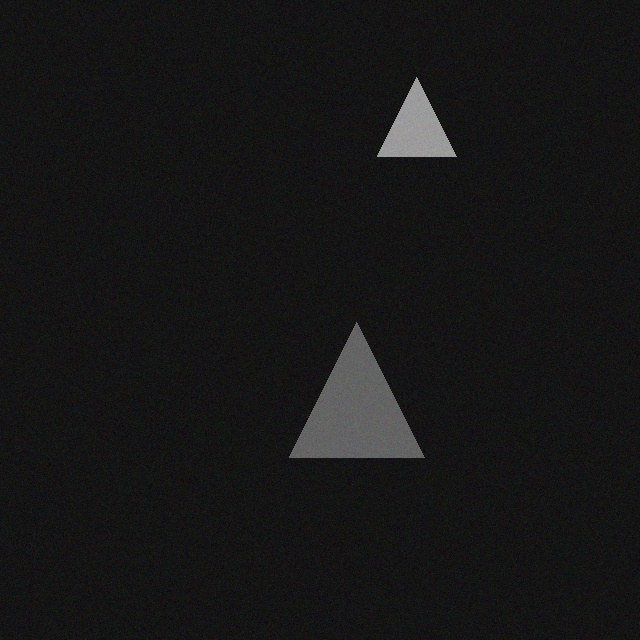triangle: (279, 329, 414, 464), (367, 84, 446, 163)
